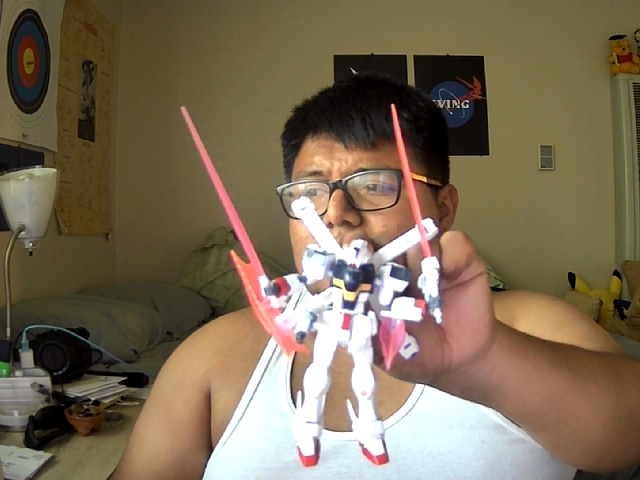Crossbones: (180, 103, 444, 469)
